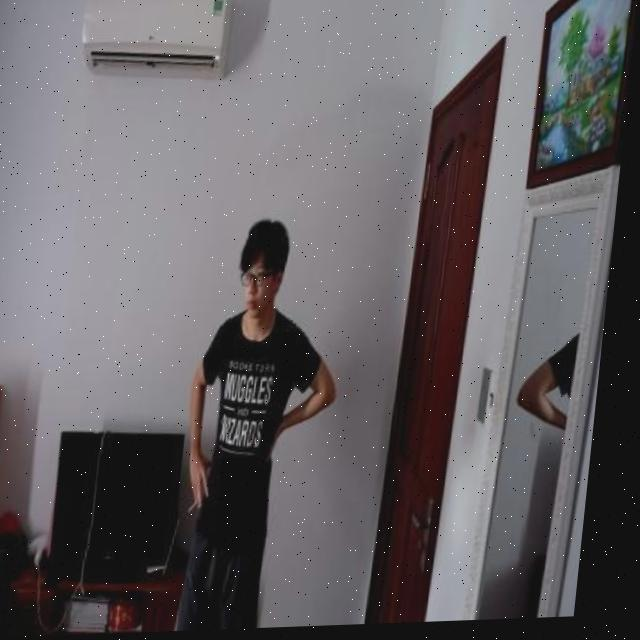cigarette: (199, 502, 210, 515)
